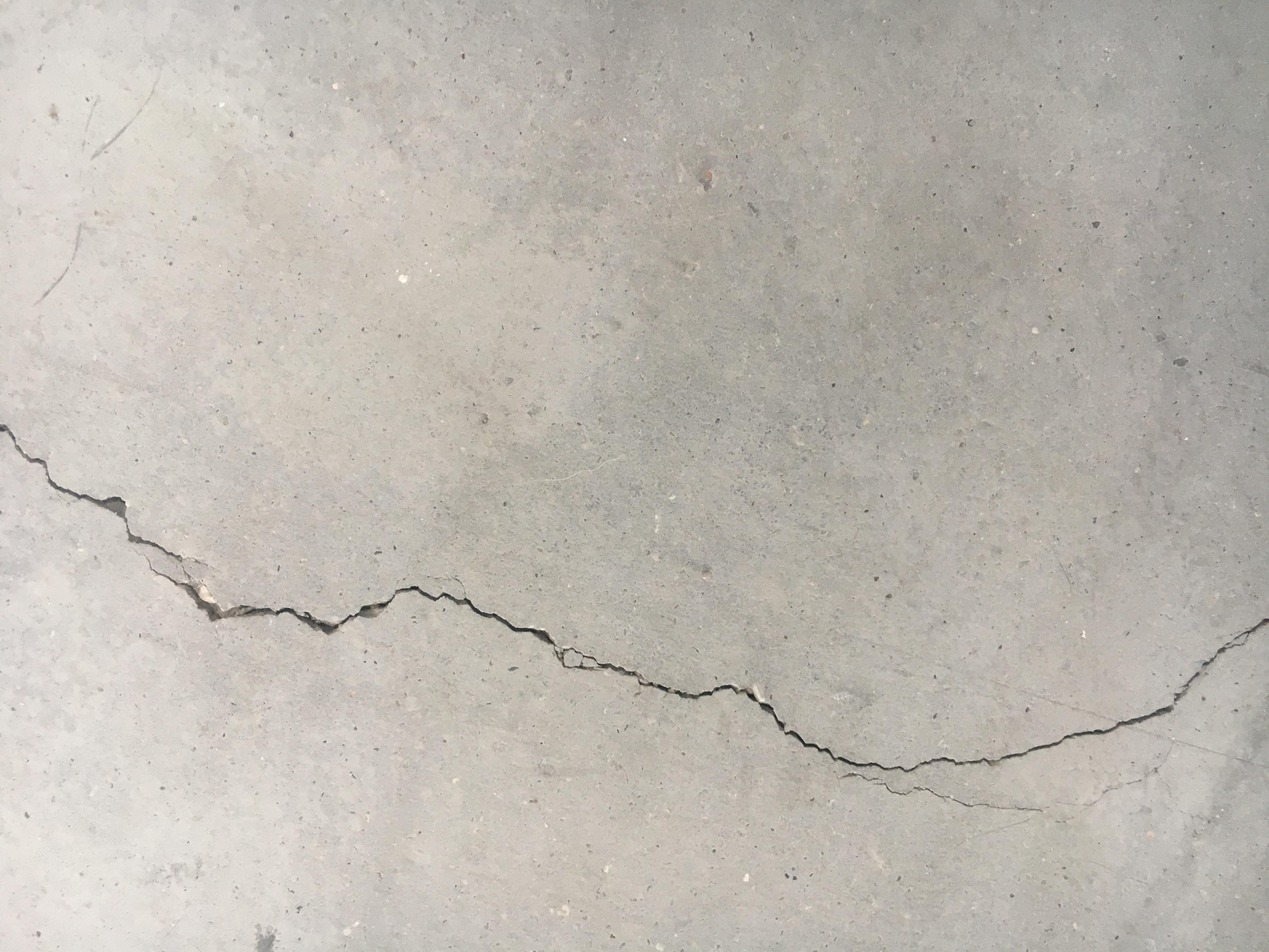Horizontal Settlement Crack: (3, 418, 1265, 810)
